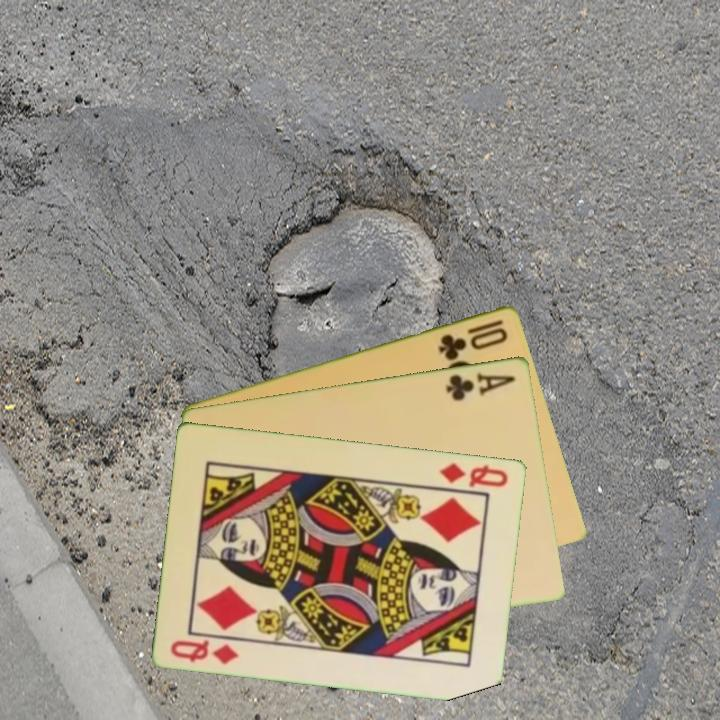10c: (435, 315, 511, 362)
Ac: (442, 369, 519, 403)
Qd: (435, 459, 512, 490), (167, 636, 243, 667)
